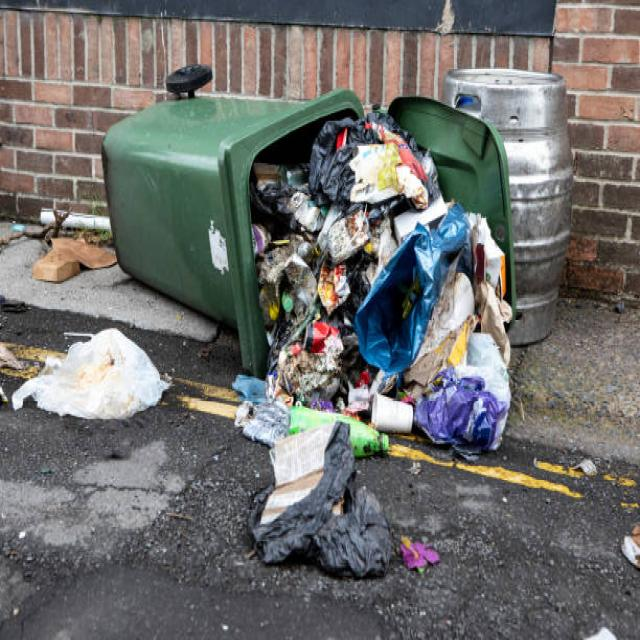garbage: (242, 105, 514, 460), (100, 63, 365, 378), (440, 66, 573, 345), (248, 419, 392, 579), (352, 201, 474, 373), (10, 325, 172, 420)
